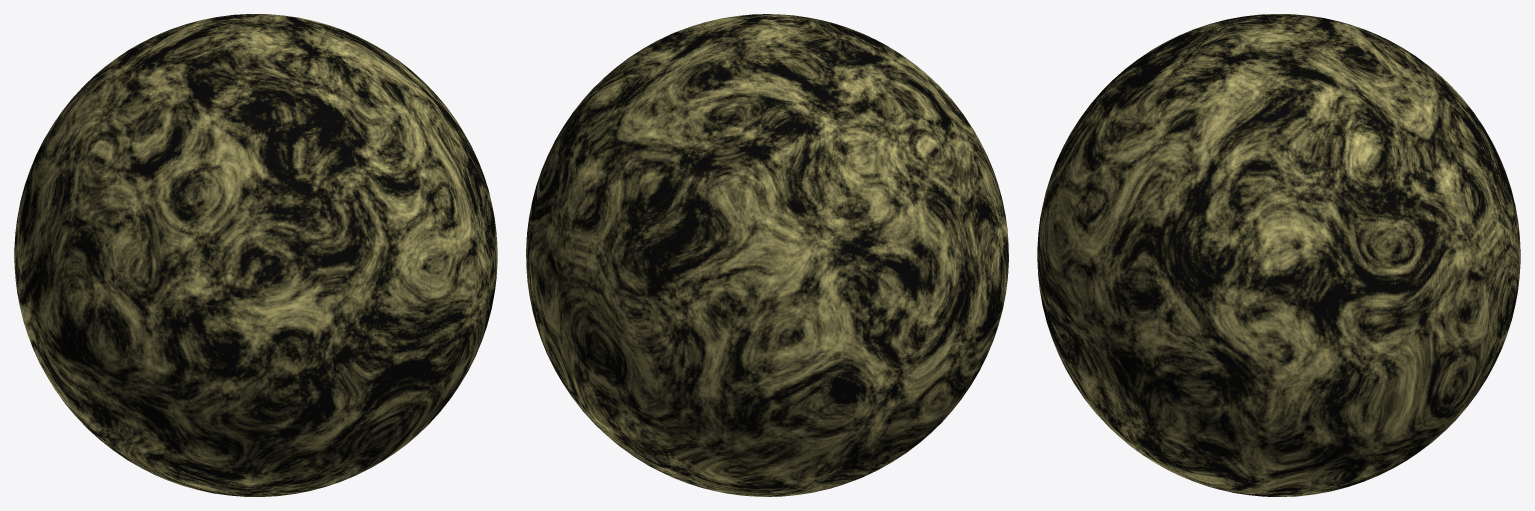
Rendered from PlanetClouds.fbx.
3 views of the same model, side by side, from view 1: azimuth 30°, elevation 25°; view 2: azimuth 150°, elevation 25°; view 3: azimuth 270°, elevation 25° (orthographic).
Visible parts, largest first — view 1: Clouds; view 2: Clouds; view 3: Clouds.
Boxes of the visible parts, <box> form: Clouds: <box>14,14,497,496</box>; Clouds: <box>526,14,1008,496</box>; Clouds: <box>1037,14,1520,496</box>.
Bounding box in the file's own units: 1001 × 1001 × 1001.
